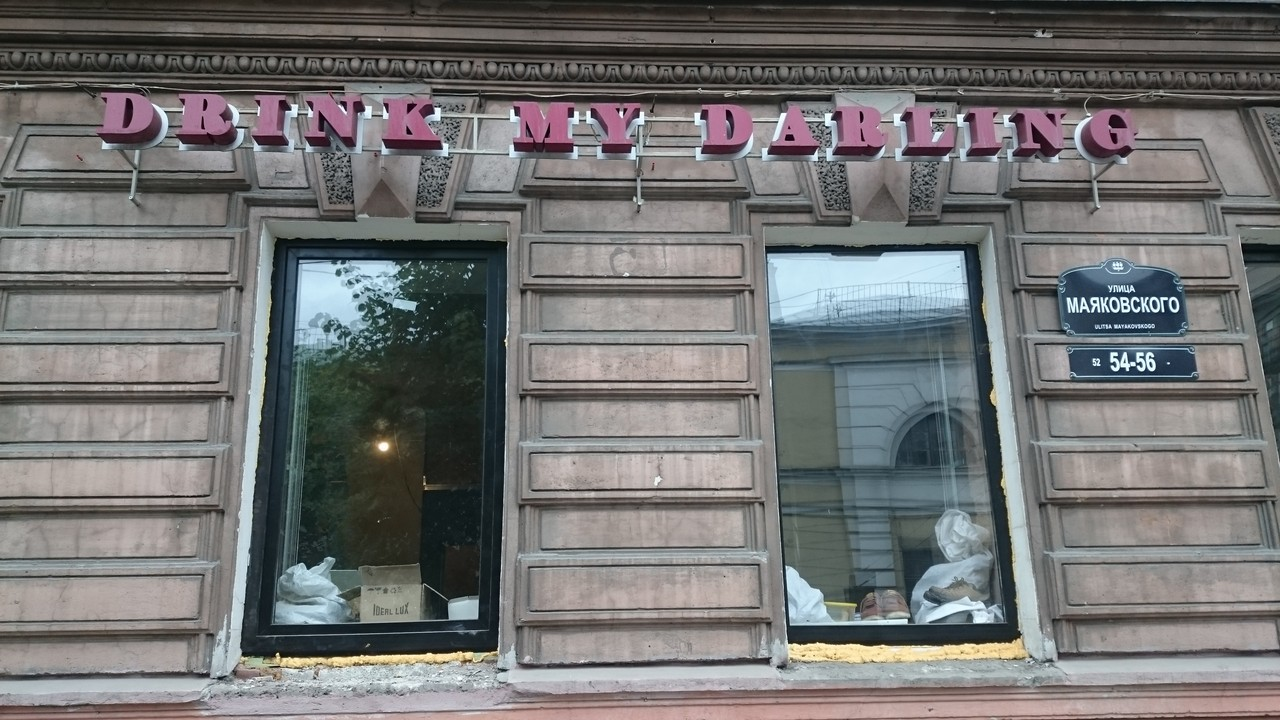signboard: (97, 86, 1139, 172)
window: (242, 237, 507, 667), (764, 243, 1022, 641)
